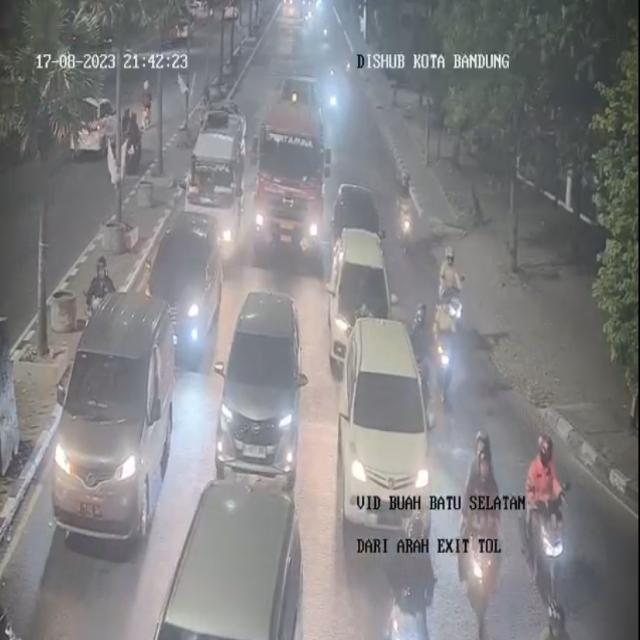cars: (44, 288, 170, 548), (136, 482, 316, 640), (340, 313, 434, 538), (218, 284, 304, 492), (149, 208, 220, 360), (327, 224, 392, 372), (330, 174, 386, 266)
motorcycle: (524, 432, 576, 630), (458, 422, 501, 628), (435, 242, 471, 345), (390, 169, 417, 254), (414, 305, 436, 405), (89, 257, 116, 321)
truck: (253, 90, 325, 262), (185, 129, 245, 262)
